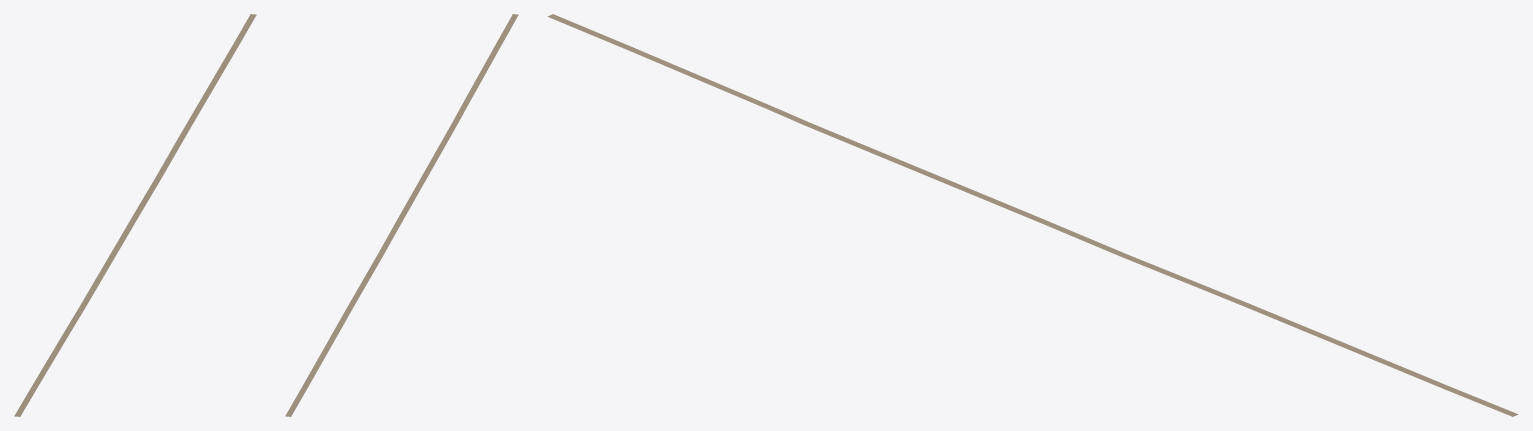
The model's file is farm_3_-1_track.glb.
3 views of the same model, side by side, from view 1: azimuth 30°, elevation 25°; view 2: azimuth 210°, elevation 25°; view 3: azimuth 270°, elevation 25° (orthographic). The views are drawn at different scales.
Parts seen in each view (by area): view 1: geometry_0; view 2: geometry_0; view 3: geometry_0.
Boxes of the visible parts, x1,y1,x2,y2 form: geometry_0: [14, 14, 256, 416]; geometry_0: [285, 14, 518, 416]; geometry_0: [547, 14, 1518, 416].
Size of the model in its own units: 358 by 4.43 by 374.
